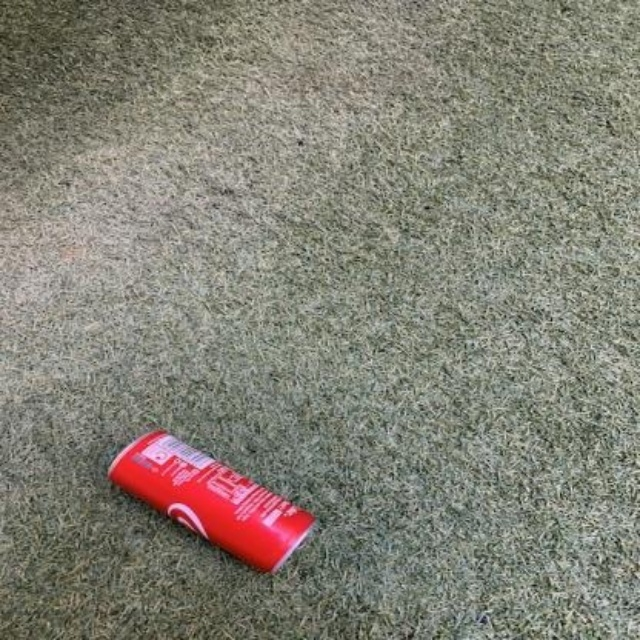trash: (108, 431, 314, 572)
